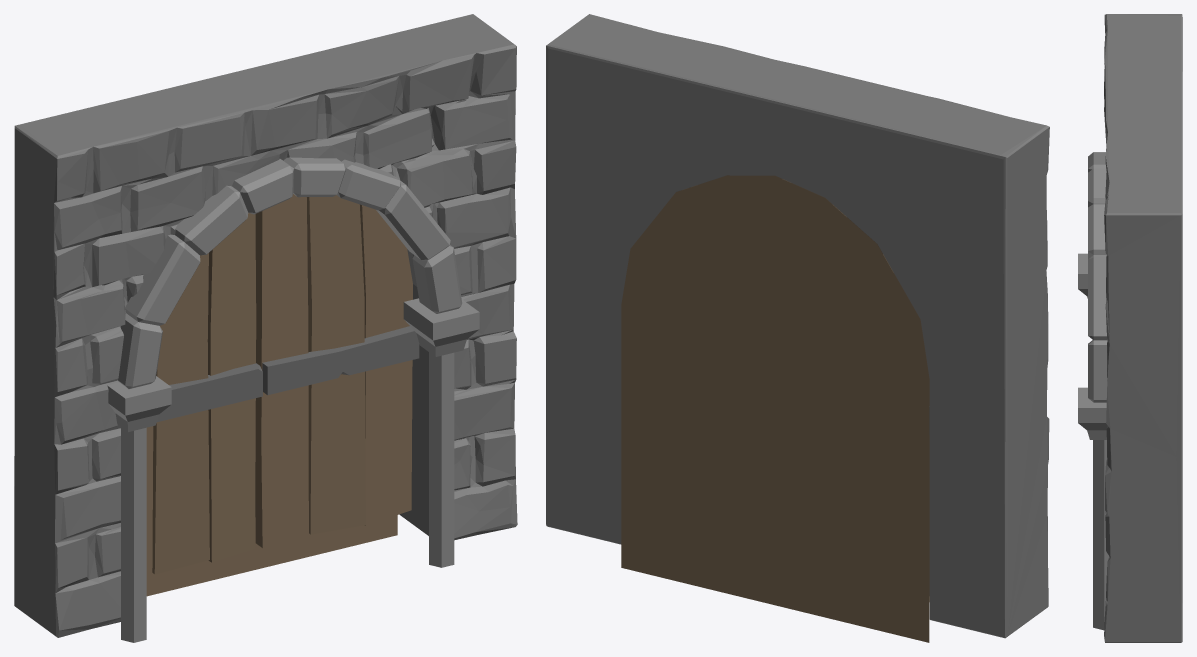
The model's file is modular_wall_3x3m_door_c.FBX.
3 views of the same model, side by side, from view 1: azimuth 30°, elevation 25°; view 2: azimuth 150°, elevation 25°; view 3: azimuth 270°, elevation 25° (orthographic). The views are drawn at different scales.
Visible parts, largest first — view 1: modular_wall_3x3m_door_c; view 2: modular_wall_3x3m_door_c; view 3: modular_wall_3x3m_door_c.
Part boxes in pixels (x1,y1,x2,y2): modular_wall_3x3m_door_c: (14,14,517,642); modular_wall_3x3m_door_c: (546,14,1049,642); modular_wall_3x3m_door_c: (1078,14,1182,642).
Size of the model in its own units: 3 by 3.14 by 0.6638.
